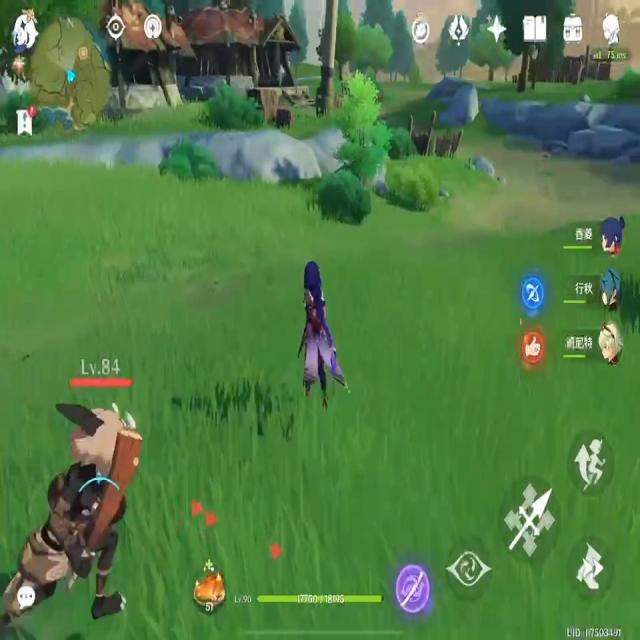genshin-hilichurls: (9, 351, 147, 632)
